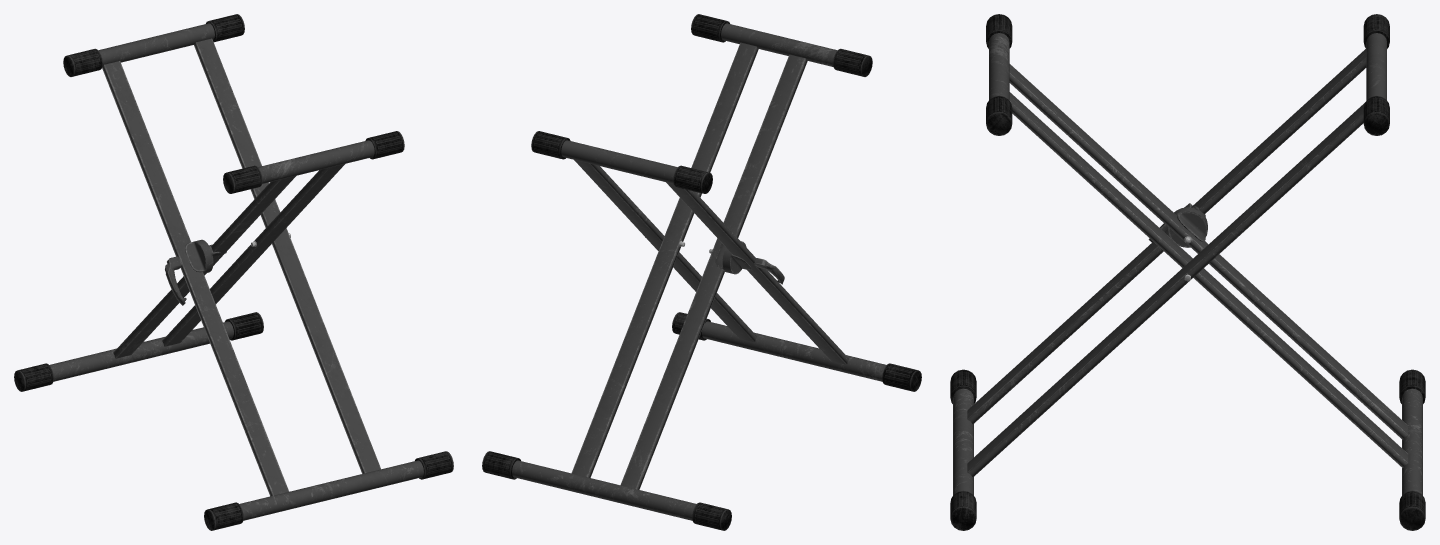
Rendered from keyboard_x-stand.glb.
3 renders of one model, left to right at view 1: azimuth 30°, elevation 25°; view 2: azimuth 150°, elevation 25°; view 3: azimuth 270°, elevation 25°, orthographic. The views are drawn at different scales.
Visible parts, largest first — view 1: crossbar4_lo, crossbar1_lo, bottombar_L_lo, bottombar_R_lo, topbar_L_lo, topbar_R_lo, crossbar2_lo, crossbar3_lo, clamp_lo; view 2: crossbar3_lo, crossbar2_lo, bottombar_R_lo, bottombar_L_lo, topbar_R_lo, topbar_L_lo, crossbar4_lo, crossbar1_lo, clamp_lo; view 3: crossbar1_lo, crossbar2_lo, crossbar3_lo, crossbar4_lo, bottombar_R_lo, bottombar_L_lo, topbar_R_lo, topbar_L_lo, clamp_lo.
Part boxes in pixels (x1,y1,x2,y2): crossbar4_lo: (102,61,288,496); crossbar1_lo: (194,38,380,473); bottombar_L_lo: (204,451,453,530); bottombar_R_lo: (14,312,263,391); topbar_L_lo: (223,131,404,193); topbar_R_lo: (63,14,244,76); crossbar2_lo: (162,164,344,346); crossbar3_lo: (113,175,296,358); clamp_lo: (184,239,220,273); crossbar3_lo: (620,54,807,489); crossbar2_lo: (571,42,758,477); bottombar_R_lo: (482,451,731,530); bottombar_L_lo: (672,312,921,391); topbar_R_lo: (531,131,712,193); topbar_L_lo: (691,14,872,76); crossbar4_lo: (666,182,848,364); crossbar1_lo: (574,160,757,342); clamp_lo: (715,241,751,274); crossbar1_lo: (967,103,1364,477); crossbar2_lo: (1009,92,1408,467); crossbar3_lo: (1009,64,1408,439); crossbar4_lo: (967,48,1366,423); bottombar_R_lo: (1399,369,1425,530); bottombar_L_lo: (950,369,976,530); topbar_R_lo: (1363,14,1389,135); topbar_L_lo: (986,14,1012,135); clamp_lo: (1168,206,1207,247).
Bounding box in the file's own units: 0.7892 × 1.07 × 1.15.
Materials: 1 (1 with a texture image).
